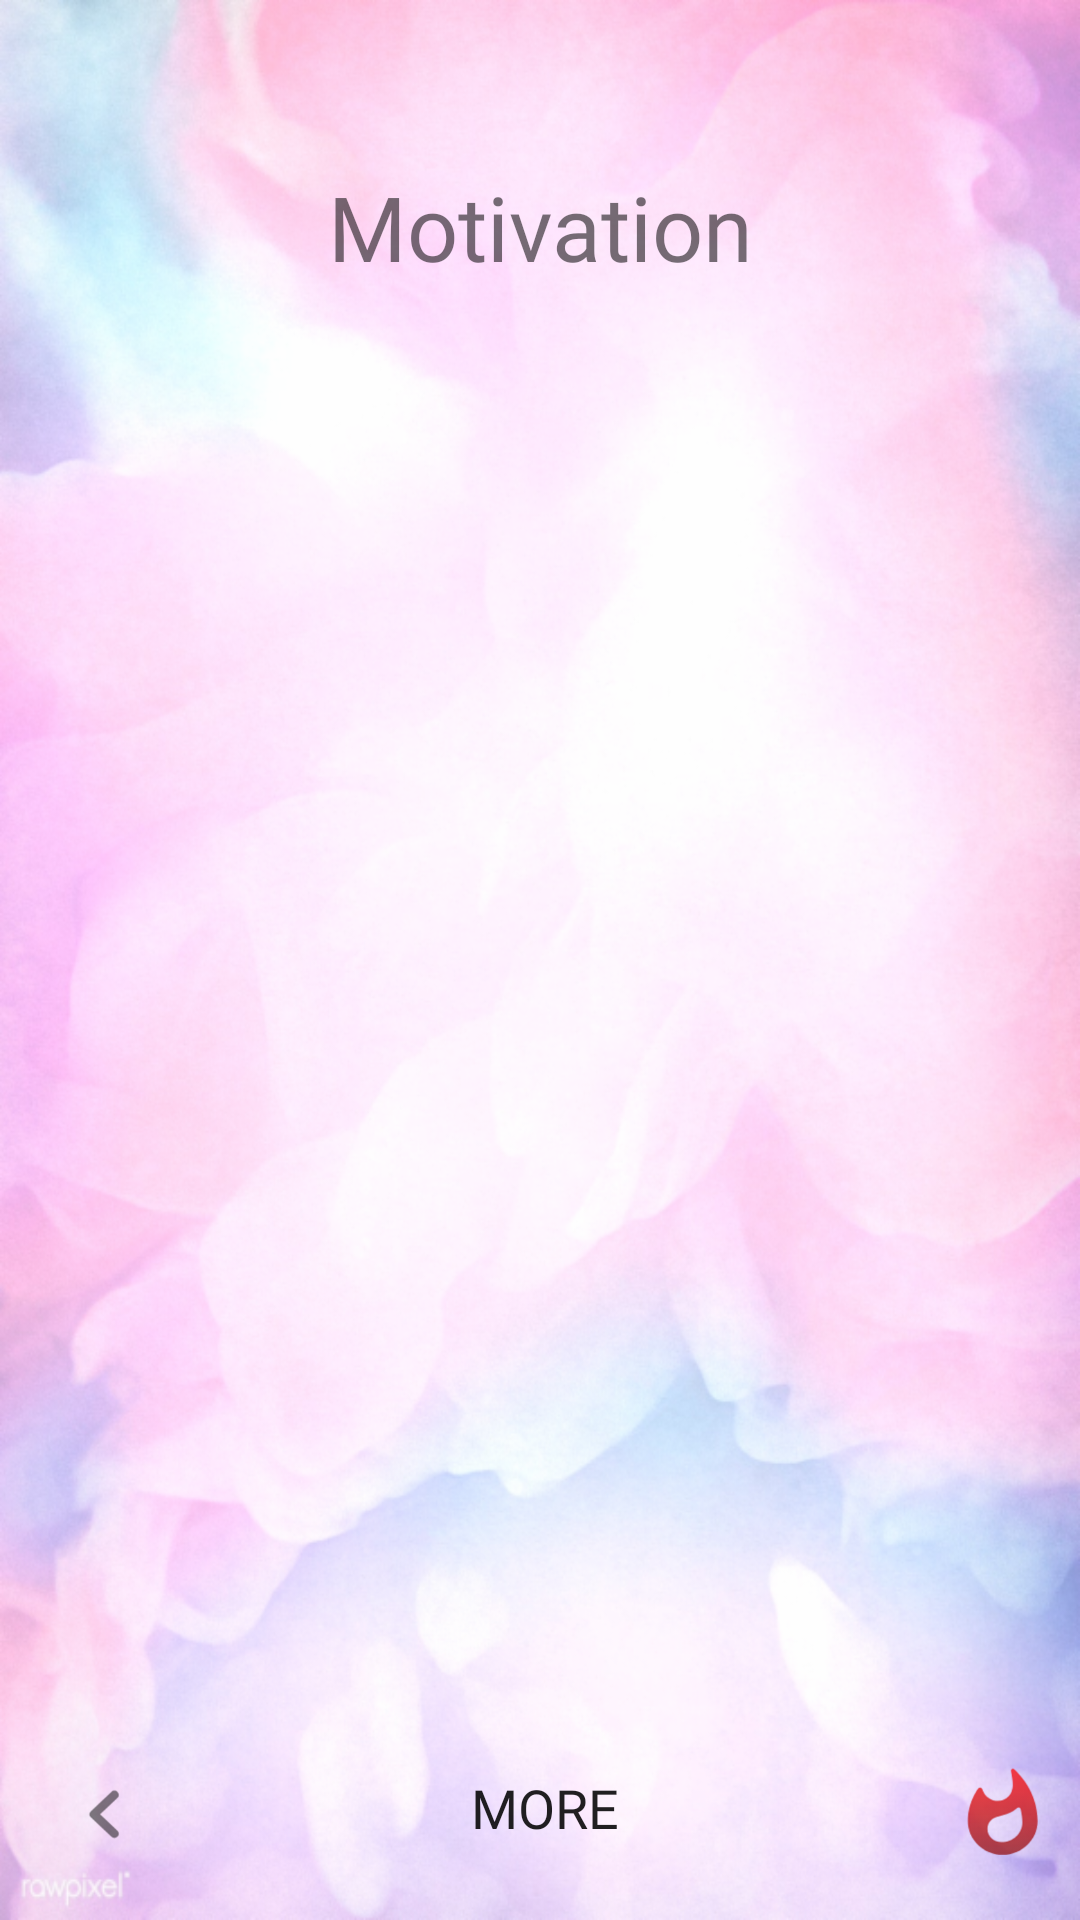

Named icons in this screenshot (1080 x 1920) and their centers, (x,y):
keyboard arrow left: (104,1814)
whatshot rounded: (991,1808)
